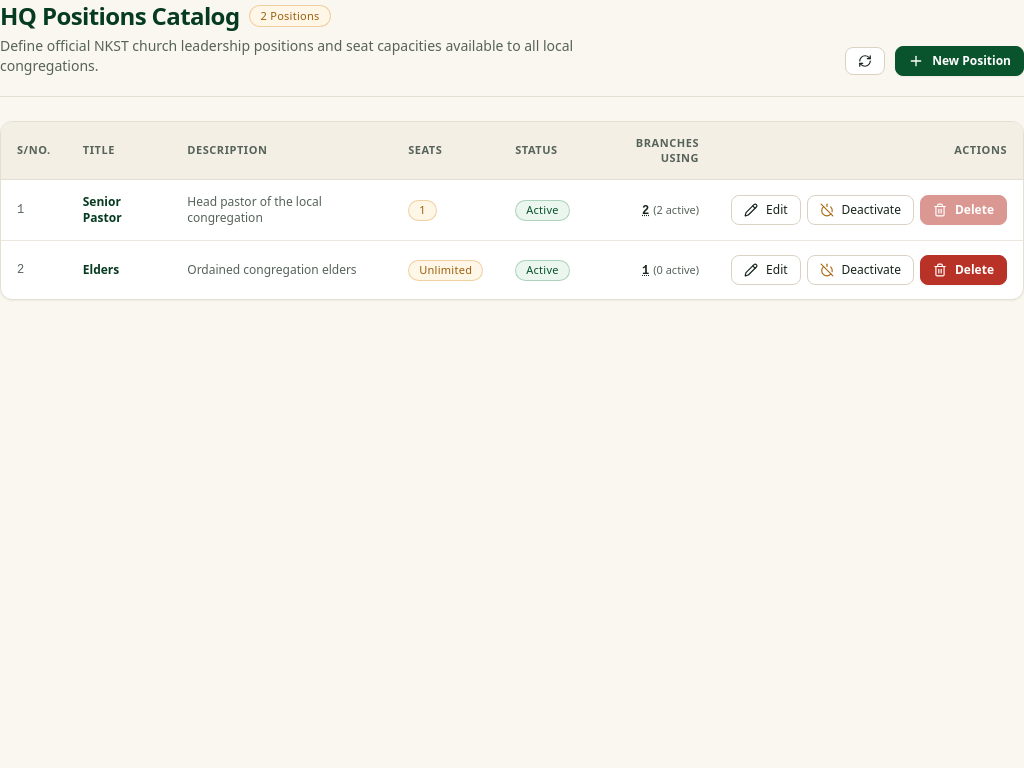
it: Integration: HQ Positions Catalog UI › displays verbatim 400 seat-reduction error listing affected branches
Check: the text "Elders" is shown, box [67,241,171,299]
Click the button "Edit" in the row of "Ordained congregation elders". click: (766, 270)
box: [731,255,801,285]
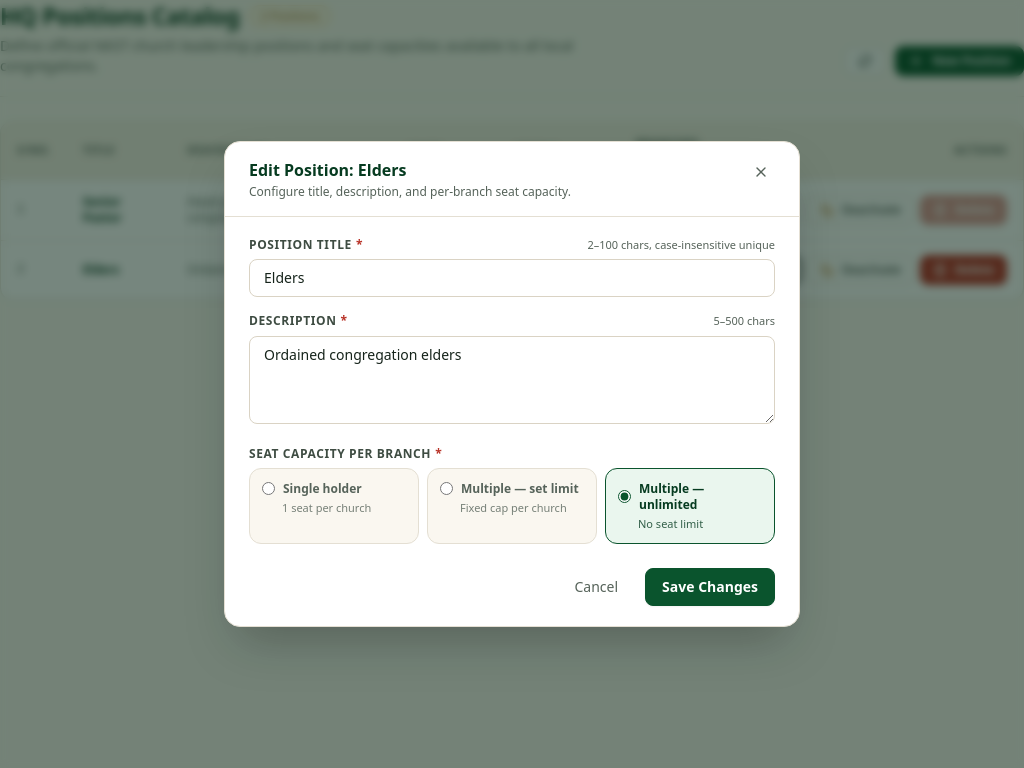
Click the radio button labelled "Single holder 1 seat per church". click: (268, 489)
box: [262,482,275,495]
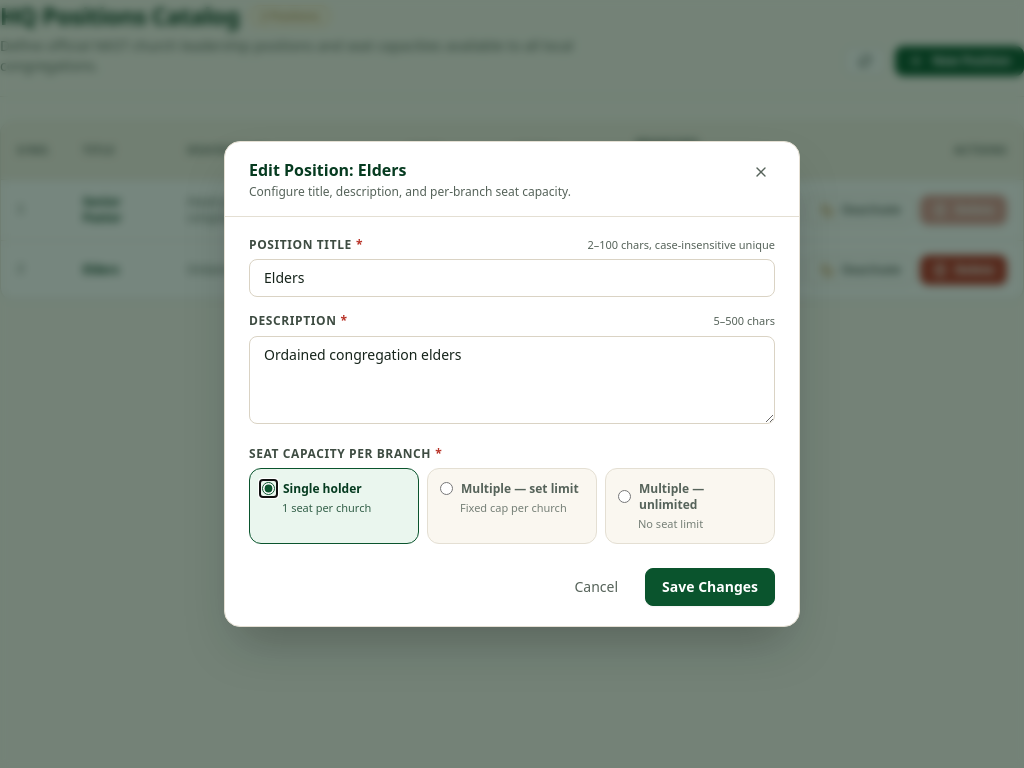
Click the button "Save Changes". click: (710, 587)
box: [645,568,775,606]
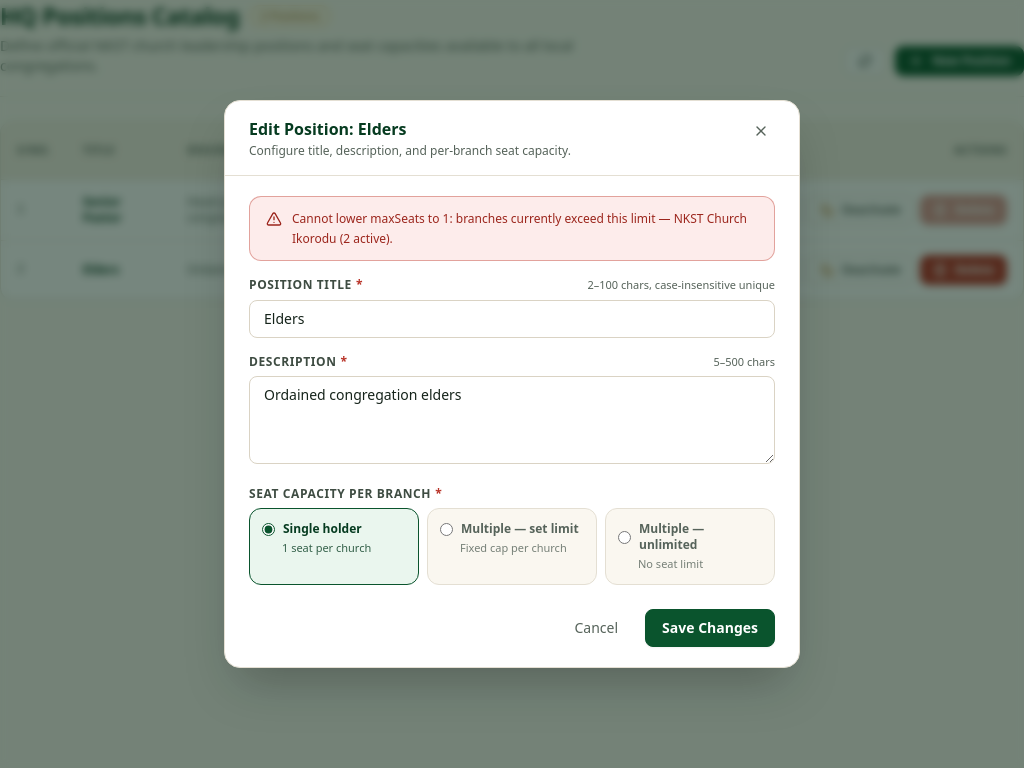
Check: the message shows "Cannot lower maxSeats to 1: branches currently exceed this limit — NKST Church Ikorodu (2 active).", box [292,210,747,247]
